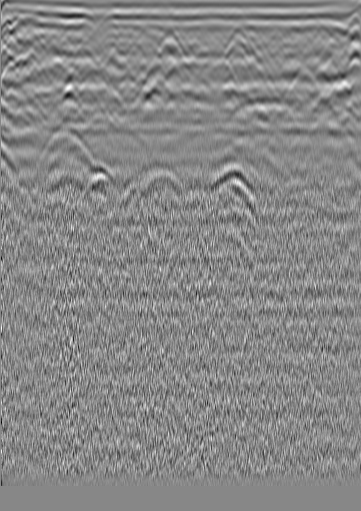가스: (83, 163, 122, 199)
상수: (311, 30, 331, 50)
오수: (31, 22, 51, 42)
우수: (191, 34, 211, 54)
